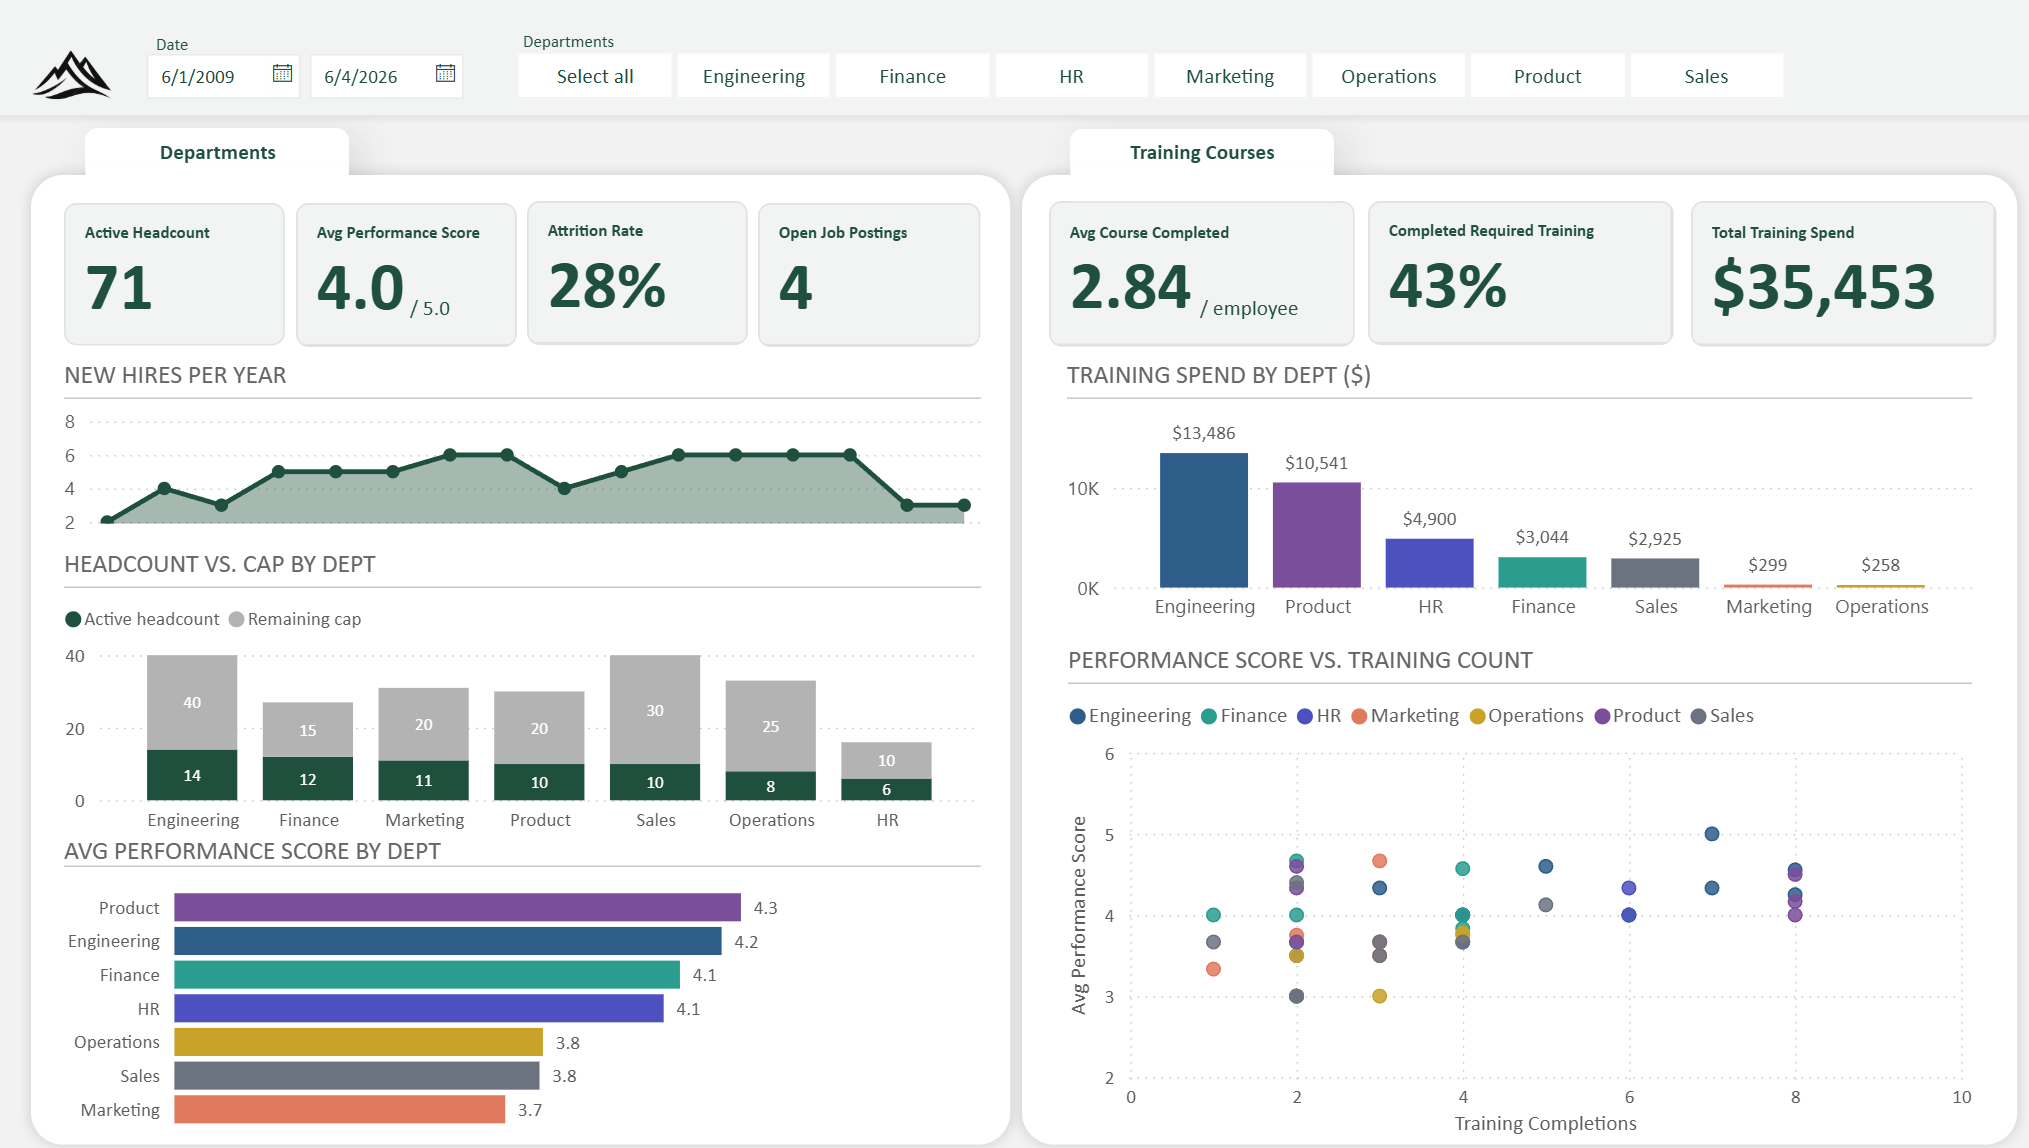

What the dashboard file says about the page in this screenshot:
{"tool":"powerbi","page":{"name":"Departments & Training Courses","canvas":[1280,720],"ordinal":0},"visuals":[{"type":"shape","box":[670.1,80.4,164.9,51.5],"z":0},{"type":"shape","box":[54.5,79.9,164.9,51.4],"z":1000},{"type":"shape","box":[640,109.1,622.2,605.7],"z":2000},{"type":"shape","box":[20.9,109.1,612.1,605.7],"z":3000},{"type":"shape","box":[0,0,1279.7,72.2],"z":4000},{"type":"image","box":[12.5,14.4,67.3,65.4],"z":5000},{"type":"slicer","fields":{"Values":["Departments.dept_name"]},"box":[298.7,25.3,841.8,43],"z":6000},{"type":"slicer","fields":{"Values":["Date.Date"]},"box":[79.7,24.1,219,44.3],"z":7000},{"type":"cardVisual","fields":{"Data":["Employees.Active_Headcount"]},"box":[41.4,126.6,138.3,89.1],"z":12000},{"type":"stackedAreaChart","title":"NEW HIRES PER YEAR","fields":{"Category":["Date.Date.Variation.Date Hierarchy.Year"],"Y":["Employees.New_Hires"]},"box":[41.4,224.2,572.7,114.8],"z":13000},{"type":"barChart","title":"AVG PERFORMANCE SCORE BY DEPT","fields":{"Category":["Departments.dept_name"],"Y":["Performance.Average_Performance_Active"]},"box":[41.4,521.9,572.7,193],"z":14000},{"type":"columnChart","title":"HEADCOUNT VS. CAP BY DEPT","fields":{"Category":["Departments.dept_name"],"Y":["Employees.Active_Headcount","Sum(Departments.headcount_cap)"]},"box":[41.4,342.2,572.7,179.7],"z":15000},{"type":"columnChart","title":"TRAINING SPEND BY DEPT ($)","fields":{"Category":["Departments.dept_name"],"Y":["Training_Completions.Total_Training_Spend"]},"box":[663.3,224.2,575.8,171.9],"z":16000},{"type":"scatterChart","title":"PERFORMANCE SCORE VS. TRAINING COUNT","fields":{"Y":["Performance.Average_Performance_Active"],"X":["Training_Completions.Training Count"],"Series":["Departments.dept_name"],"Category":["Employees.employee_id"]},"box":[663.5,402.8,575.3,312.1],"z":17000},{"type":"cardVisual","fields":{"Data":["Performance.Average_Performance_Active"]},"box":[185.9,126.6,138.3,89.8],"z":18000},{"type":"cardVisual","fields":{"Data":["Exit_Interviews.Voluntary_Attrition_Rate"]},"box":[330.5,125.8,138.3,89.8],"z":19000},{"type":"cardVisual","fields":{"Data":["Job_Postings.Open Jobs"]},"box":[475,126.6,139.1,89.8],"z":20000},{"type":"cardVisual","fields":{"Data":["Training_Completions.Training_Completion_Pct"]},"box":[856.2,125.8,190.6,89.8],"z":21000},{"type":"cardVisual","fields":{"Data":["Training_Completions.Avg_Trainings_Per_Employee"]},"box":[657,125.8,191.4,90.6],"z":22000},{"type":"cardVisual","fields":{"Data":["Training_Completions.Total_Training_Spend"]},"box":[1057.8,125.8,190.6,90.6],"z":23000},{"type":"textbox","box":[93.6,12.7,48.4,28.7],"z":24000},{"type":"textbox","box":[322.9,10.5,89.8,30.3],"z":25000},{"type":"textbox","box":[746.1,178.1,146.9,28.1],"z":26000},{"type":"textbox","box":[252.3,178.1,155.5,28.1],"z":27000},{"type":"textbox","box":[55.6,80.8,163.6,28.3],"z":28000},{"type":"textbox","box":[670.6,80.4,164.4,28.9],"z":29000},{"type":"shape","box":[55,102.9,164.5,22.7],"z":30000},{"type":"shape","box":[670.6,103.1,164.4,22.7],"z":31000}]}

Visuals, with their boxes in screenshot pixels (x1, y1, x2, y2), scaled from the page's 1280x720 canvas onto the 2029x1148 screenshot:
shape: l=1062, t=128, r=1324, b=210
shape: l=86, t=127, r=348, b=209
shape: l=1014, t=174, r=2001, b=1140
shape: l=33, t=174, r=1003, b=1140
shape: l=0, t=0, r=2028, b=115
image: l=20, t=23, r=126, b=127
slicer - Departments.dept_name: l=473, t=40, r=1808, b=109
slicer - Date.Date: l=126, t=38, r=473, b=109
cardVisual - Employees.Active_Headcount: l=66, t=202, r=285, b=344
"NEW HIRES PER YEAR" stackedAreaChart: l=66, t=357, r=973, b=541
"AVG PERFORMANCE SCORE BY DEPT" barChart: l=66, t=832, r=973, b=1140
"HEADCOUNT VS. CAP BY DEPT" columnChart: l=66, t=546, r=973, b=832
"TRAINING SPEND BY DEPT ($)" columnChart: l=1051, t=357, r=1964, b=632
"PERFORMANCE SCORE VS. TRAINING COUNT" scatterChart: l=1052, t=642, r=1964, b=1140
cardVisual - Performance.Average_Performance_Active: l=295, t=202, r=514, b=345
cardVisual - Exit_Interviews.Voluntary_Attrition_Rate: l=524, t=201, r=743, b=344
cardVisual - Job_Postings.Open Jobs: l=753, t=202, r=973, b=345
cardVisual - Training_Completions.Training_Completion_Pct: l=1357, t=201, r=1659, b=344
cardVisual - Training_Completions.Avg_Trainings_Per_Employee: l=1041, t=201, r=1345, b=345
cardVisual - Training_Completions.Total_Training_Spend: l=1677, t=201, r=1979, b=345
textbox: l=148, t=20, r=225, b=66
textbox: l=512, t=17, r=654, b=65
textbox: l=1183, t=284, r=1416, b=329
textbox: l=400, t=284, r=646, b=329
textbox: l=88, t=129, r=347, b=174
textbox: l=1063, t=128, r=1324, b=174
shape: l=87, t=164, r=348, b=200
shape: l=1063, t=164, r=1324, b=201
